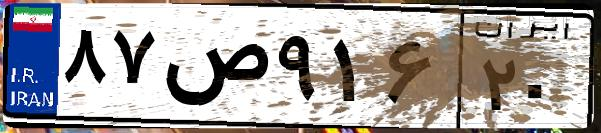0: (525, 38, 570, 115)
1: (330, 28, 385, 110)
2: (475, 38, 525, 113)
6: (385, 28, 445, 110)
7: (110, 28, 158, 98)
8: (57, 26, 110, 100)
9: (270, 28, 330, 110)
ص: (158, 20, 270, 120)
